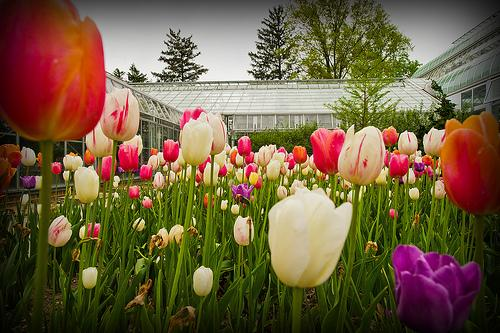tulip: (2, 0, 106, 143), (388, 244, 484, 333), (267, 193, 353, 286), (440, 112, 500, 218), (338, 124, 385, 189), (102, 87, 141, 143), (308, 128, 348, 176), (181, 117, 213, 170), (71, 166, 101, 203), (116, 140, 140, 173), (194, 263, 215, 299), (384, 151, 407, 180), (233, 215, 254, 245), (399, 128, 417, 153), (235, 135, 251, 155)
